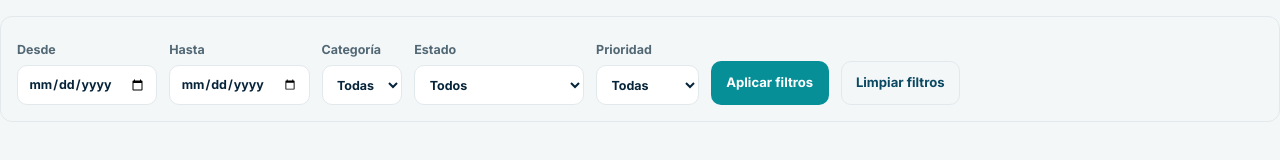
Test: filtros de reportes › limpia todos los filtros y elimina los valores del formulario
Type "2026-09-10" into the date field labelled "Desde" at [87, 85], box [17,65,157,105]
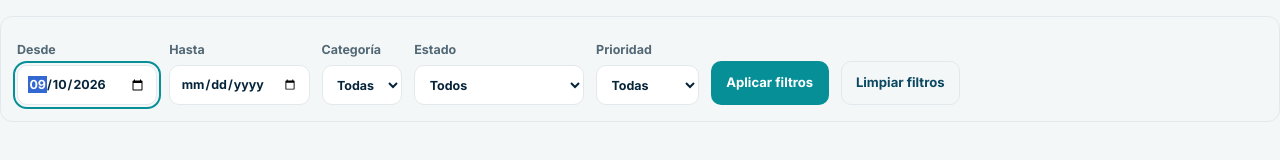
Click the button "Limpiar filtros" at [900, 83], box [840,61,960,105]
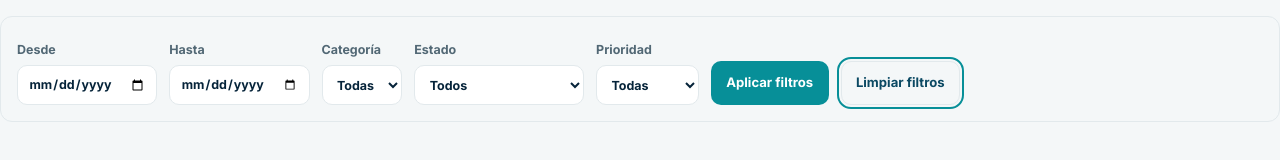
Check: the date field labelled "Desde" is empty, box [17,65,157,105]
